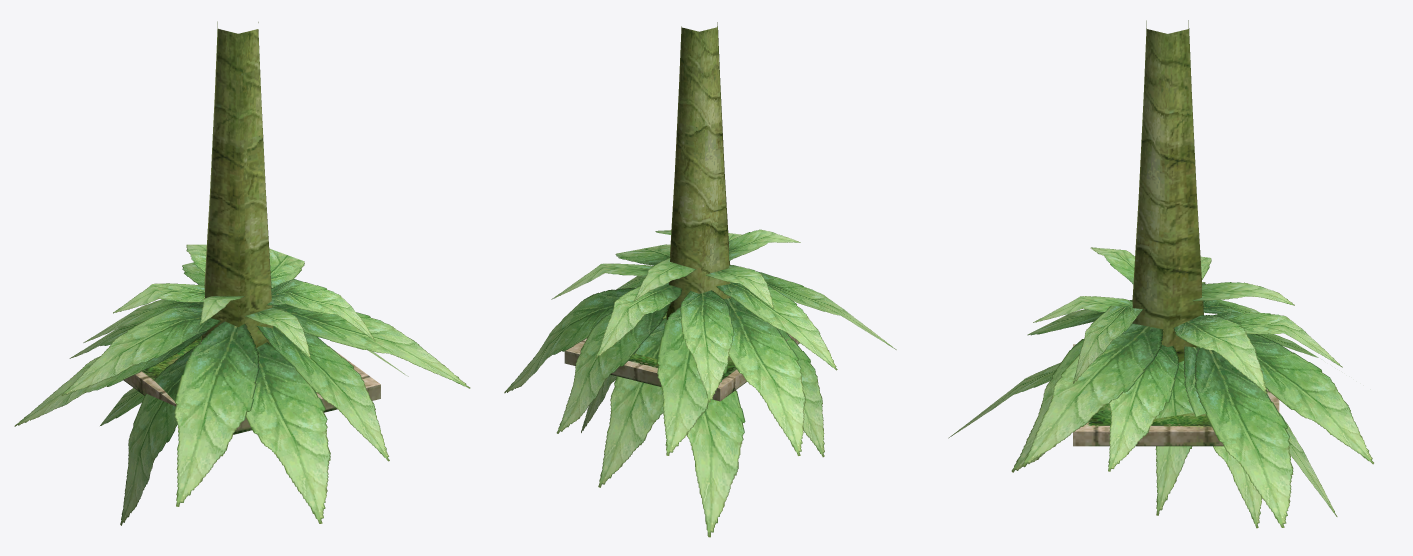
Rendered from nml-bd092.glb.
3 views of the same model, side by side, from view 1: azimuth 30°, elevation 25°; view 2: azimuth 150°, elevation 25°; view 3: azimuth 270°, elevation 25° (orthographic). The views are drawn at different scales.
Parts seen in each view (by area): view 1: geom_node_1, geom_node_0; view 2: geom_node_1, geom_node_0; view 3: geom_node_1, geom_node_0.
Part boxes in pixels (x1,y1,x2,y2): geom_node_1: [14, 244, 470, 525]; geom_node_0: [123, 21, 380, 434]; geom_node_1: [504, 229, 896, 537]; geom_node_0: [564, 22, 799, 401]; geom_node_1: [948, 247, 1373, 528]; geom_node_0: [1073, 20, 1279, 446].
Size of the model in its own units: 5.19 by 6.5 by 5.29.
2 materials, 2 textured.
